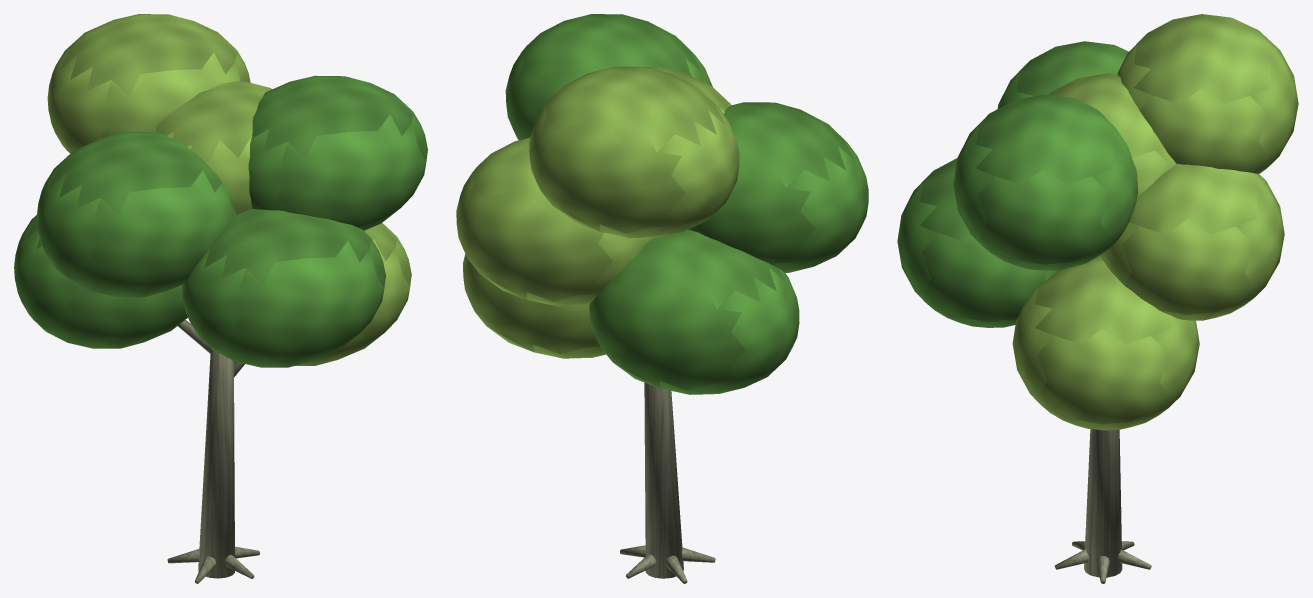
File: beech_mature_a.glb
3 views of the same model, side by side, from view 1: azimuth 30°, elevation 25°; view 2: azimuth 150°, elevation 25°; view 3: azimuth 270°, elevation 25° (orthographic). The views are drawn at different scales.
Visible parts, largest first — view 1: beech_mature_a.001; view 2: beech_mature_a.001; view 3: beech_mature_a.001.
Part boxes in pixels (<box>): beech_mature_a.001: <box>14,14,427,583</box>; beech_mature_a.001: <box>456,14,868,583</box>; beech_mature_a.001: <box>897,14,1298,583</box>.
Bounding box in the file's own units: 10.8 × 14.7 × 10.03.
Materials: 1 (1 with a texture image).
